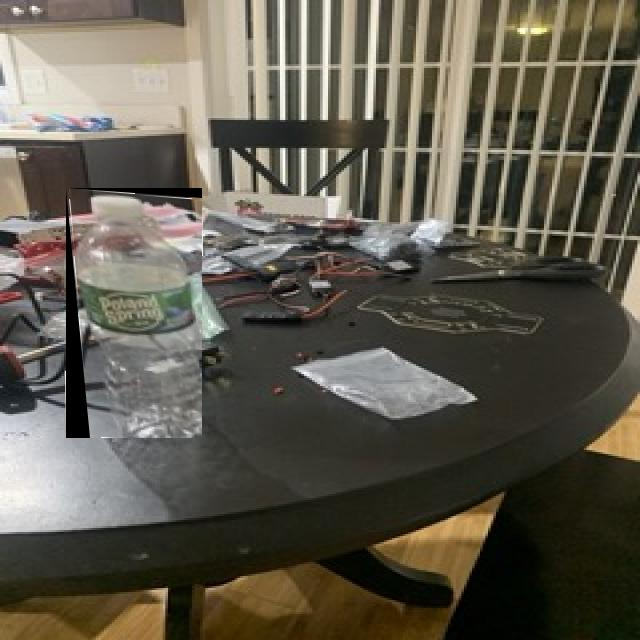water_bottle: (66, 188, 202, 438)
